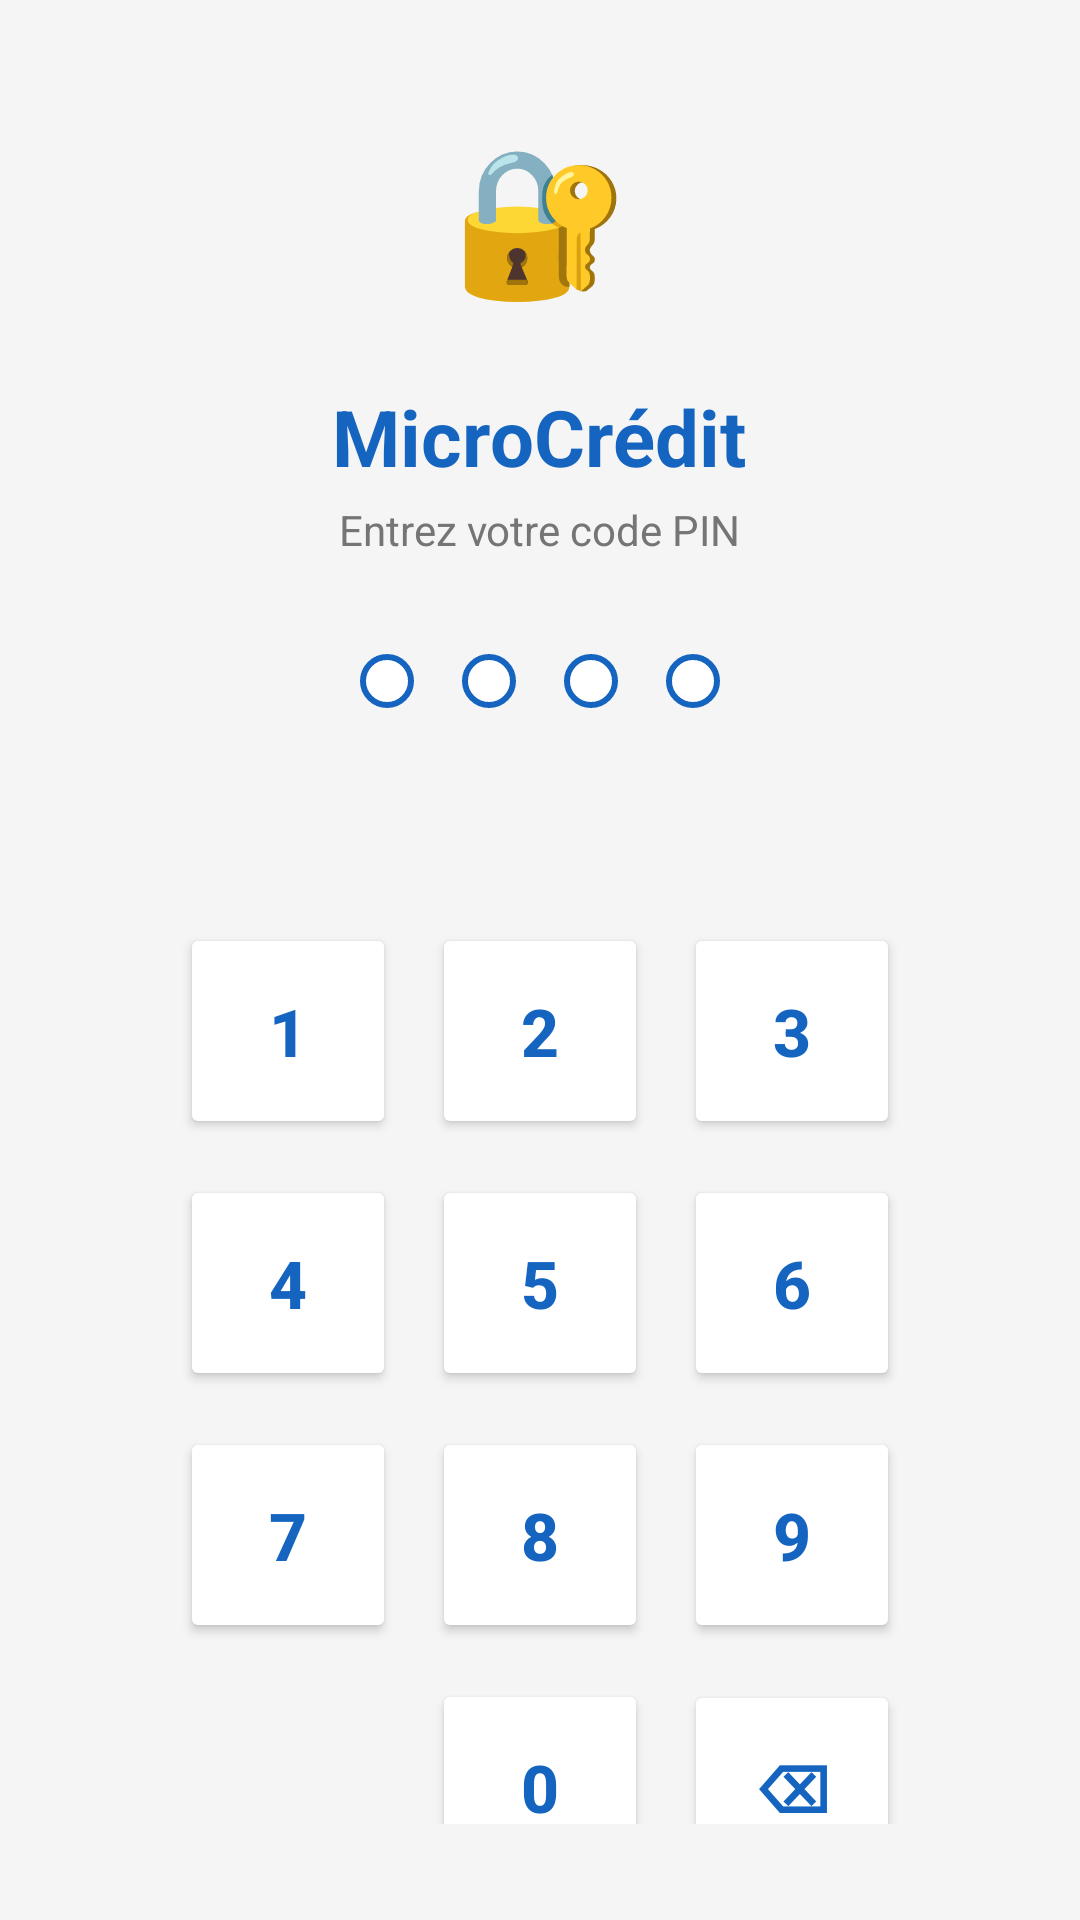

Locate icon controls on the screen. Image size 1080 × 1920, boxes as bbox(x1, y1, x2, y2).
pin dot empty: bbox(360, 654, 414, 708), bbox(462, 654, 516, 708), bbox(564, 654, 618, 708), bbox(666, 654, 720, 708)
